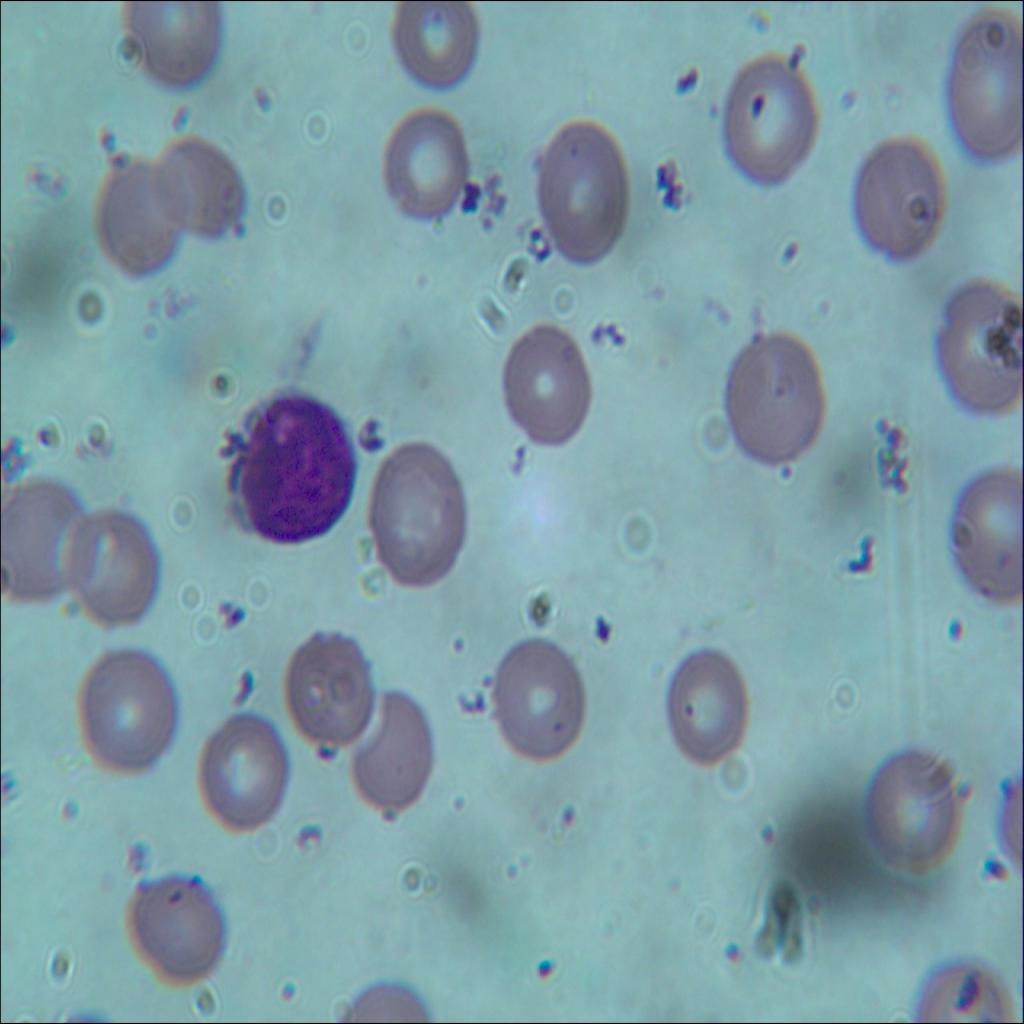Eritrosit: (363, 438, 468, 588), (721, 318, 824, 470), (536, 118, 635, 271), (75, 635, 174, 782), (58, 502, 166, 632), (721, 55, 823, 191), (495, 325, 603, 444), (491, 638, 589, 769), (935, 278, 1023, 422), (282, 618, 378, 748), (124, 864, 226, 986), (863, 744, 958, 874), (850, 139, 948, 262), (946, 11, 1023, 164), (942, 464, 1023, 605), (666, 649, 758, 771), (378, 108, 469, 227), (96, 161, 184, 284), (355, 686, 434, 821), (198, 712, 284, 835), (1, 479, 81, 608), (118, 0, 228, 92), (152, 135, 246, 242), (393, 0, 478, 89), (448, 631, 469, 658)
Limfoblast: (231, 390, 356, 545)
Platelet: (552, 795, 582, 846), (88, 117, 119, 162), (590, 609, 618, 657), (670, 59, 704, 98), (775, 238, 809, 274), (715, 934, 744, 974), (940, 611, 970, 649), (458, 175, 484, 215), (168, 99, 198, 132), (528, 952, 555, 988), (246, 81, 272, 114), (275, 977, 301, 1008), (758, 815, 780, 848), (980, 854, 1002, 884), (836, 84, 858, 114), (744, 92, 769, 118), (546, 715, 569, 742), (229, 212, 248, 242), (774, 458, 791, 488), (226, 606, 244, 628)
